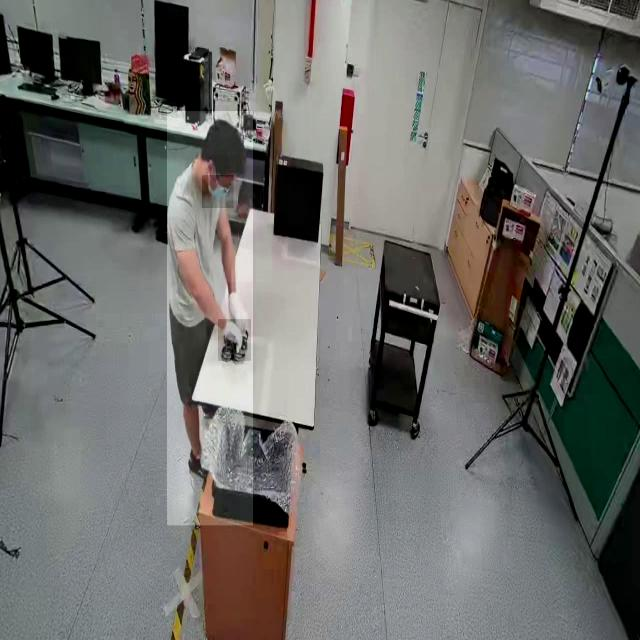face_mask: (202, 175, 234, 208)
hand_glove: (218, 319, 252, 362), (228, 282, 252, 338)
head_nohelmet: (206, 118, 246, 156)
person: (167, 111, 253, 526)
